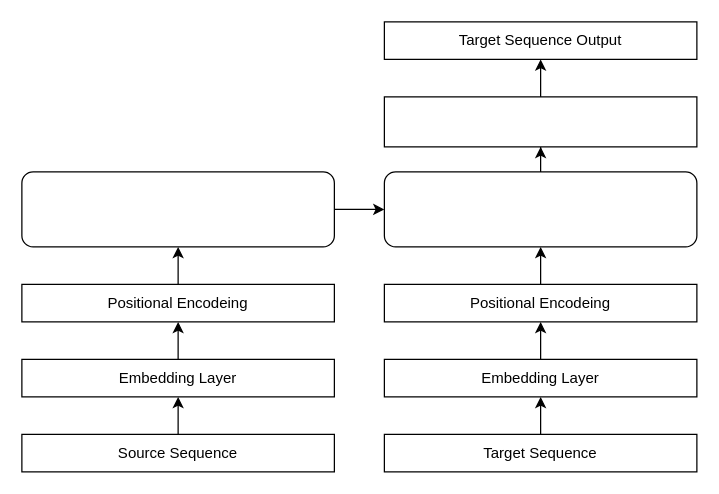
The diagram is 719 pixels wide and 494 high, and some of its shapes have lost their labels. Each missing label, with the box of its shape:
Full Connect Layer: (383, 96, 697, 147)
Transformer Decoder: (383, 171, 697, 247)
Transformer Encoder: (21, 171, 334, 247)
